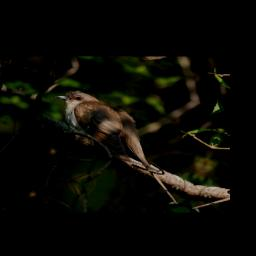Cuckoo: (22, 84, 214, 206)
